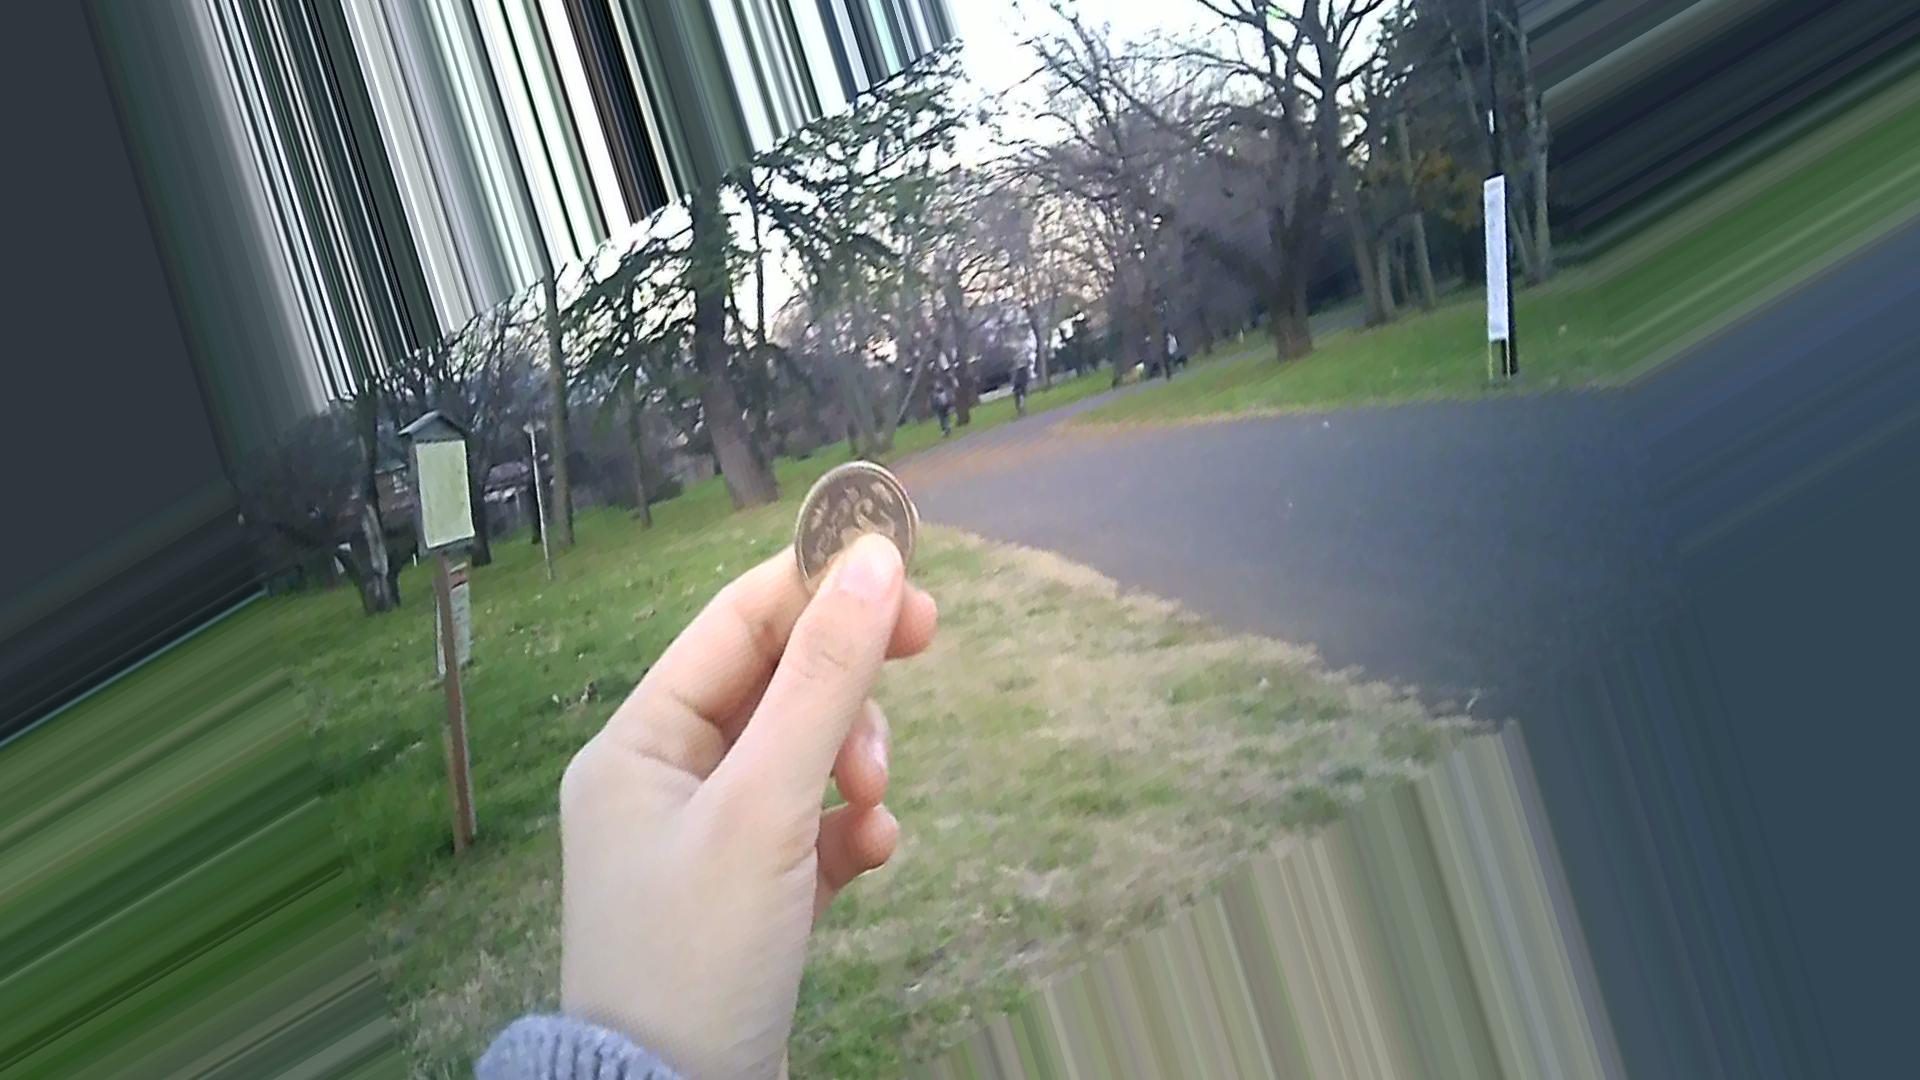500 Yen: (775, 455, 920, 588)
